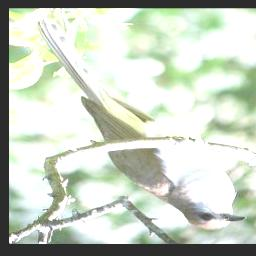Cuckoo: (31, 17, 246, 231)
